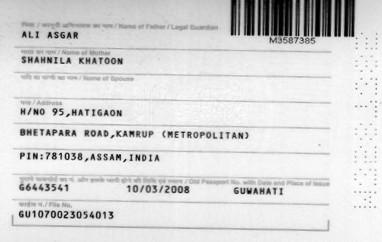File_no: (16, 207, 118, 221)
address: (18, 104, 249, 164)
father_name: (20, 28, 82, 42)
mother_name: (19, 54, 128, 67)
old_passport_details: (17, 181, 288, 198)
passport_no: (266, 34, 318, 47)
